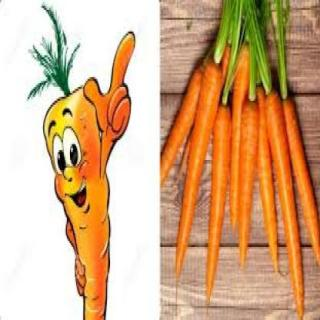Wortel: (175, 57, 224, 274), (263, 92, 305, 319), (205, 104, 232, 300), (239, 96, 260, 272)
